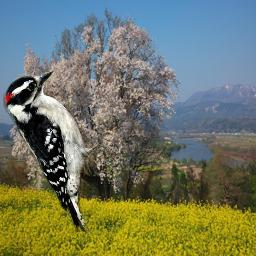Woodpecker: (3, 70, 121, 232)
